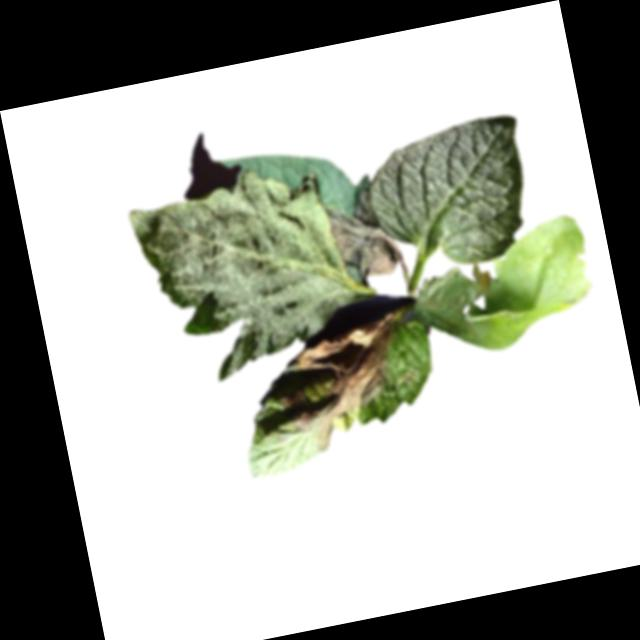Late_blight: (149, 200, 325, 387), (408, 211, 604, 364), (265, 309, 421, 457), (325, 181, 402, 286)
